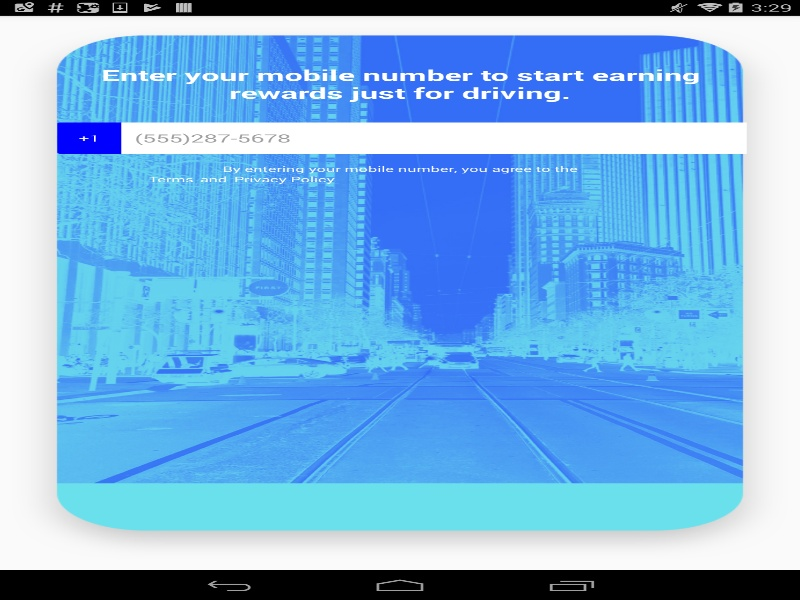Input: (121, 122, 746, 153)
